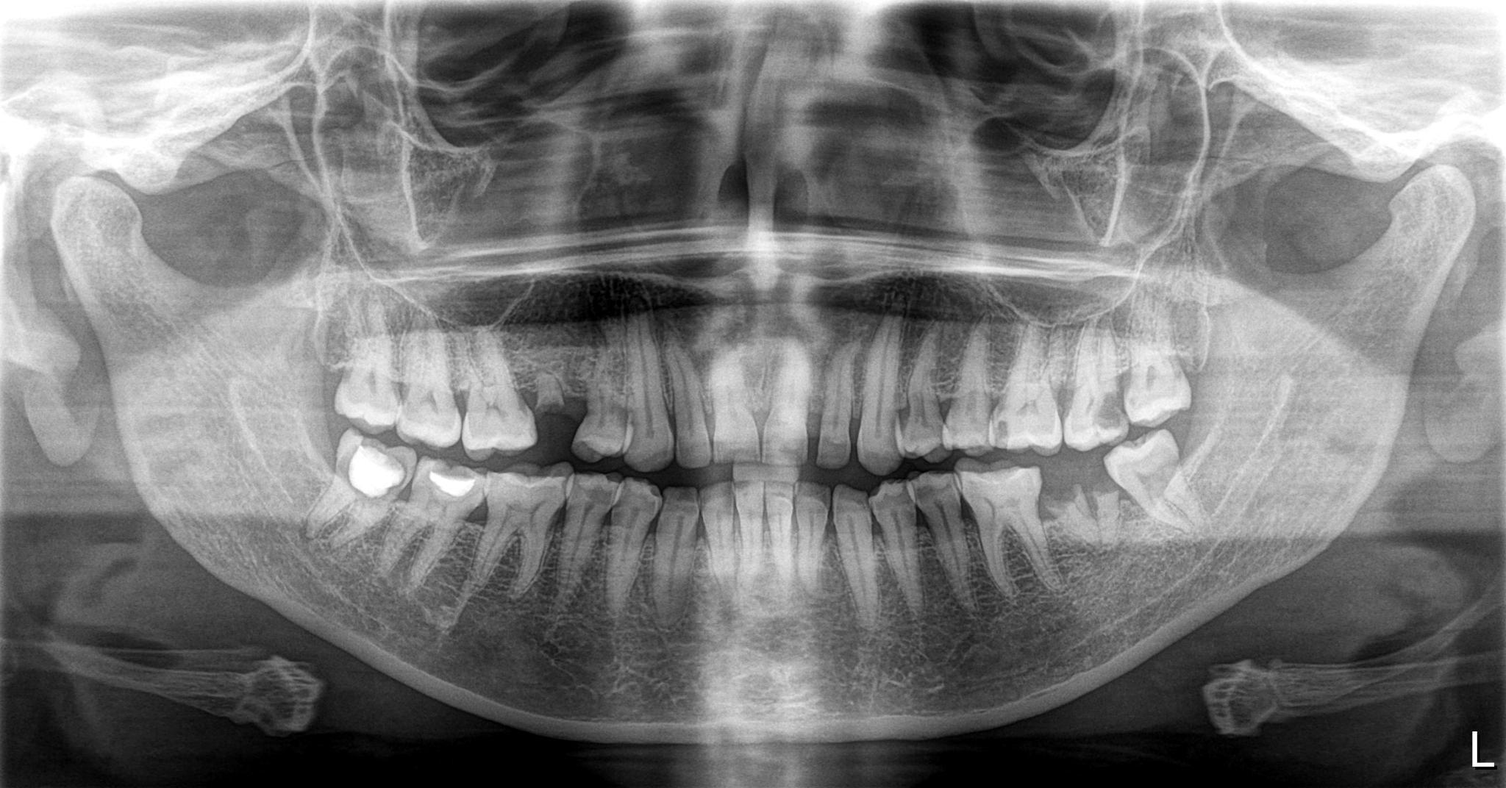Dental Caries: (954, 415, 1026, 453), (908, 477, 966, 518), (1091, 386, 1141, 433)
Retained Root: (1044, 465, 1086, 590), (535, 345, 577, 447), (1092, 467, 1126, 574)
